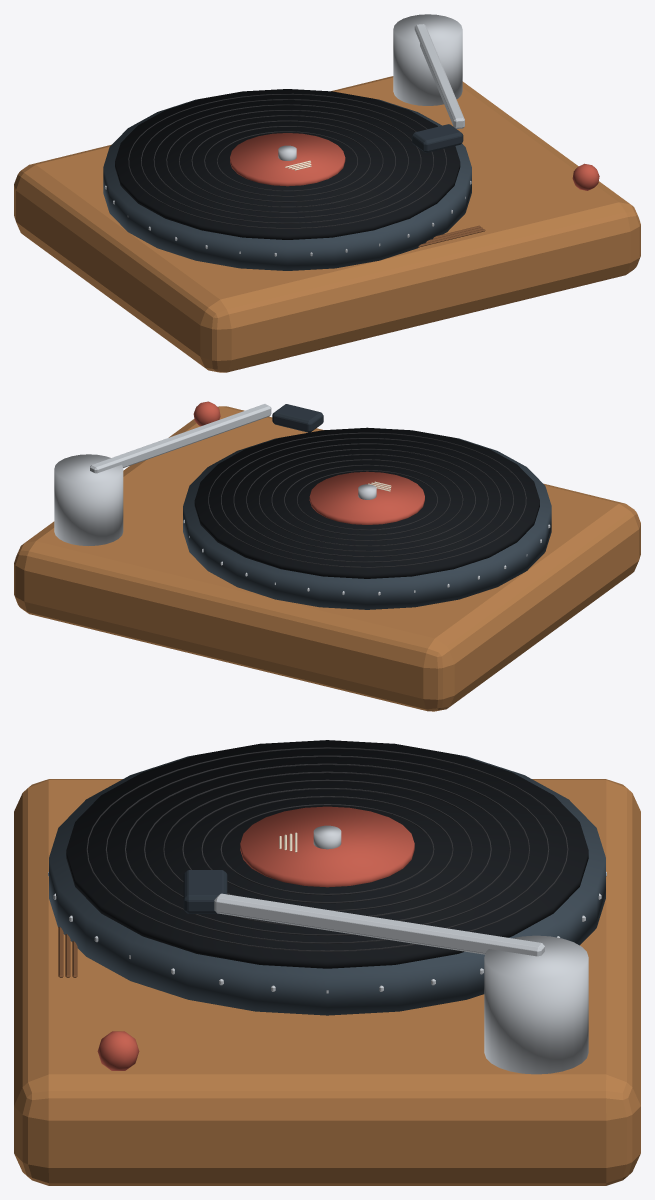
The model's file is record_player.glb.
The picture shows the model from 3 angles, top to bottom: view 1: azimuth 30°, elevation 25°; view 2: azimuth 150°, elevation 25°; view 3: azimuth 270°, elevation 25°; orthographic projection. The views are drawn at different scales.
Visible parts, largest first — view 1: plinth, record, platter, arm-base, label, tone-arm, groove.007, head-shell, groove.006, groove.005, groove.004, groove.003 (+4 smaller); view 2: plinth, record, platter, arm-base, label, tone-arm, groove.007, groove.006, head-shell, groove.005, groove.004, groove.003 (+4 smaller); view 3: plinth, record, platter, arm-base, label, tone-arm, groove.007, groove.006, groove.005, head-shell, groove.004, start-knob (+4 smaller).
Part boxes in pixels (bbox=[...]): plinth: bbox=[14, 76, 640, 372]; record: bbox=[115, 89, 460, 239]; platter: bbox=[103, 99, 471, 270]; arm-base: bbox=[393, 14, 462, 105]; label: bbox=[230, 133, 345, 186]; tone-arm: bbox=[414, 24, 464, 128]; groove.007: bbox=[128, 93, 446, 228]; head-shell: bbox=[412, 124, 463, 152]; groove.006: bbox=[141, 99, 433, 223]; groove.005: bbox=[153, 104, 421, 218]; groove.004: bbox=[166, 110, 408, 212]; groove.003: bbox=[179, 115, 395, 207]; plinth: bbox=[14, 406, 640, 711]; record: bbox=[194, 427, 539, 578]; platter: bbox=[183, 437, 551, 609]; arm-base: bbox=[54, 454, 123, 545]; label: bbox=[309, 471, 424, 524]; tone-arm: bbox=[90, 404, 271, 473]; groove.007: bbox=[208, 432, 526, 567]; groove.006: bbox=[221, 438, 513, 562]; head-shell: bbox=[272, 404, 323, 432]; groove.005: bbox=[233, 443, 501, 556]; groove.004: bbox=[246, 448, 488, 551]; groove.003: bbox=[259, 454, 475, 546]; plinth: bbox=[14, 779, 640, 1185]; record: bbox=[66, 740, 588, 968]; platter: bbox=[49, 755, 605, 1015]; arm-base: bbox=[484, 935, 588, 1074]; label: bbox=[240, 806, 414, 887]; tone-arm: bbox=[214, 893, 544, 956]; groove.007: bbox=[86, 747, 568, 951]; groove.006: bbox=[105, 755, 549, 943]; groove.005: bbox=[125, 763, 529, 935]; head-shell: bbox=[183, 870, 227, 913]; groove.004: bbox=[144, 771, 510, 926]; start-knob: bbox=[97, 1031, 139, 1070].
Bounding box in the file's own units: 0.44 × 0.135 × 0.36.
